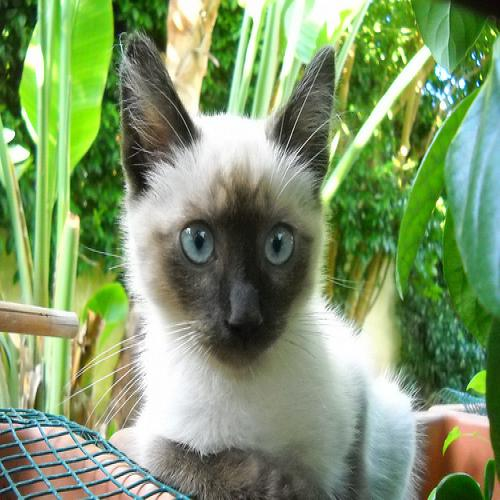siamese: (101, 15, 355, 374)
